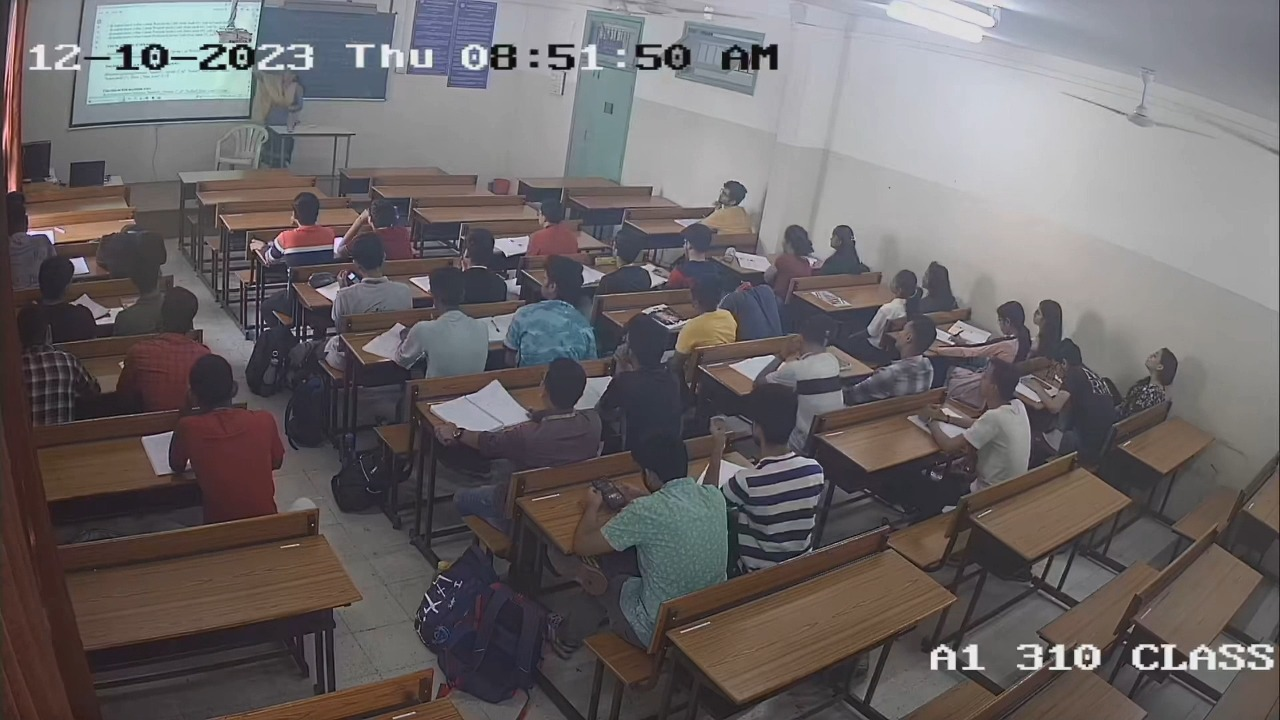cell-phones: (589, 473, 627, 511), (1030, 373, 1050, 392), (592, 254, 616, 268)
person: (576, 427, 729, 608), (1035, 337, 1115, 447), (597, 232, 652, 292)
